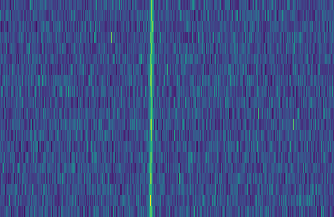signal: (146, 0, 156, 217)
